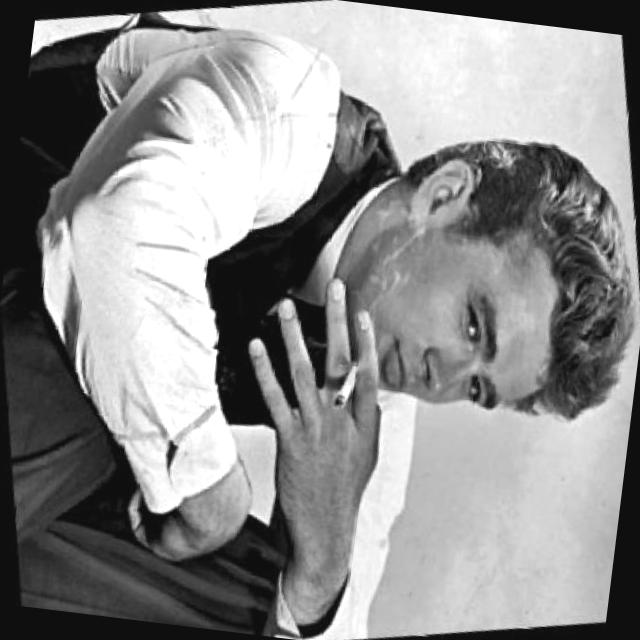smoke: (322, 358, 366, 415)
